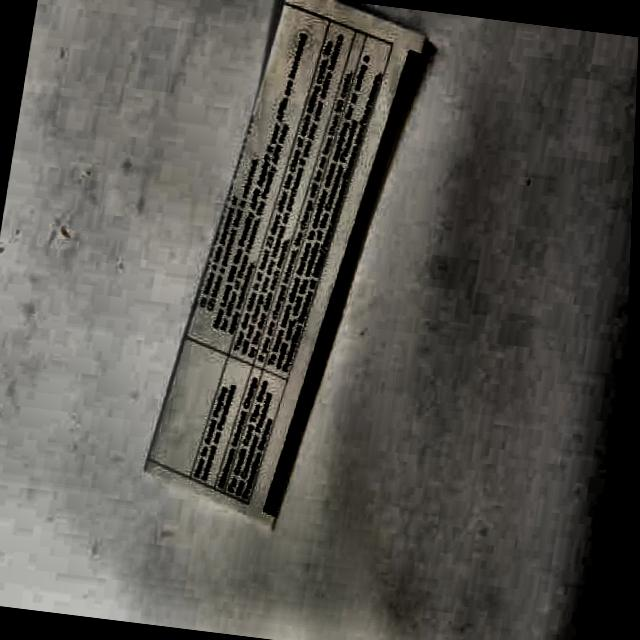Paper: (138, 0, 430, 540)
